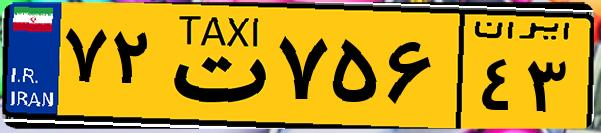2: (110, 28, 158, 98)
3: (525, 38, 570, 115)
4: (475, 38, 525, 113)
5: (330, 28, 385, 110)
6: (385, 28, 445, 110)
7: (270, 28, 330, 110), (57, 26, 110, 100)
ت: (158, 12, 270, 120)
